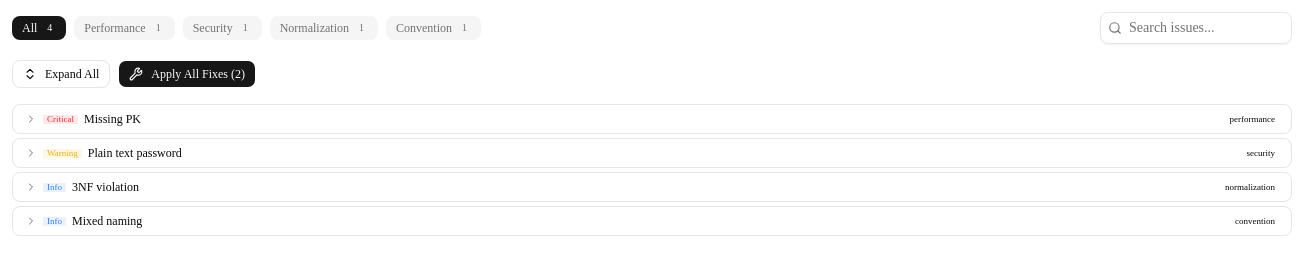
IssuesList › filters by search text
This screenshot has width=1304, height=253.
Type "password" into the field with placeholder "Search issues..." at (1196, 28), box left=1100, top=12, right=1292, bottom=44
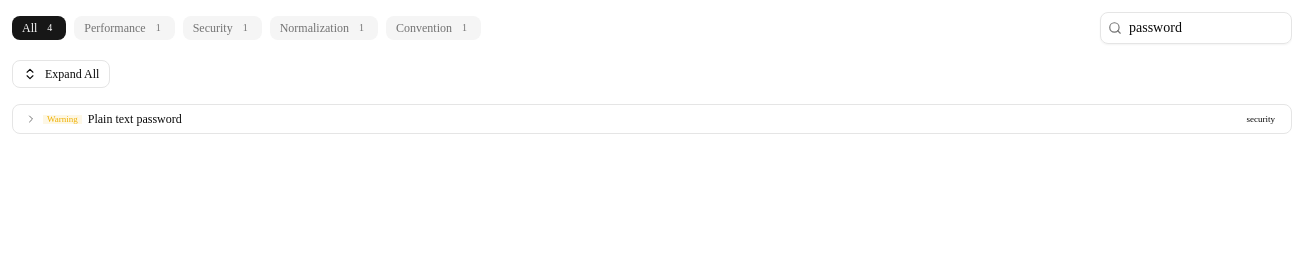
Check: the text "Plain text password" is shown, box left=88, top=112, right=182, bottom=126
Check: the button "Missing PK" is gone
